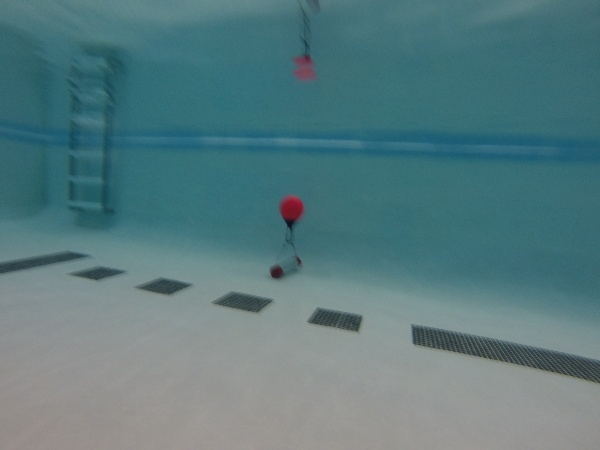buoy_red: (276, 195, 306, 231)
